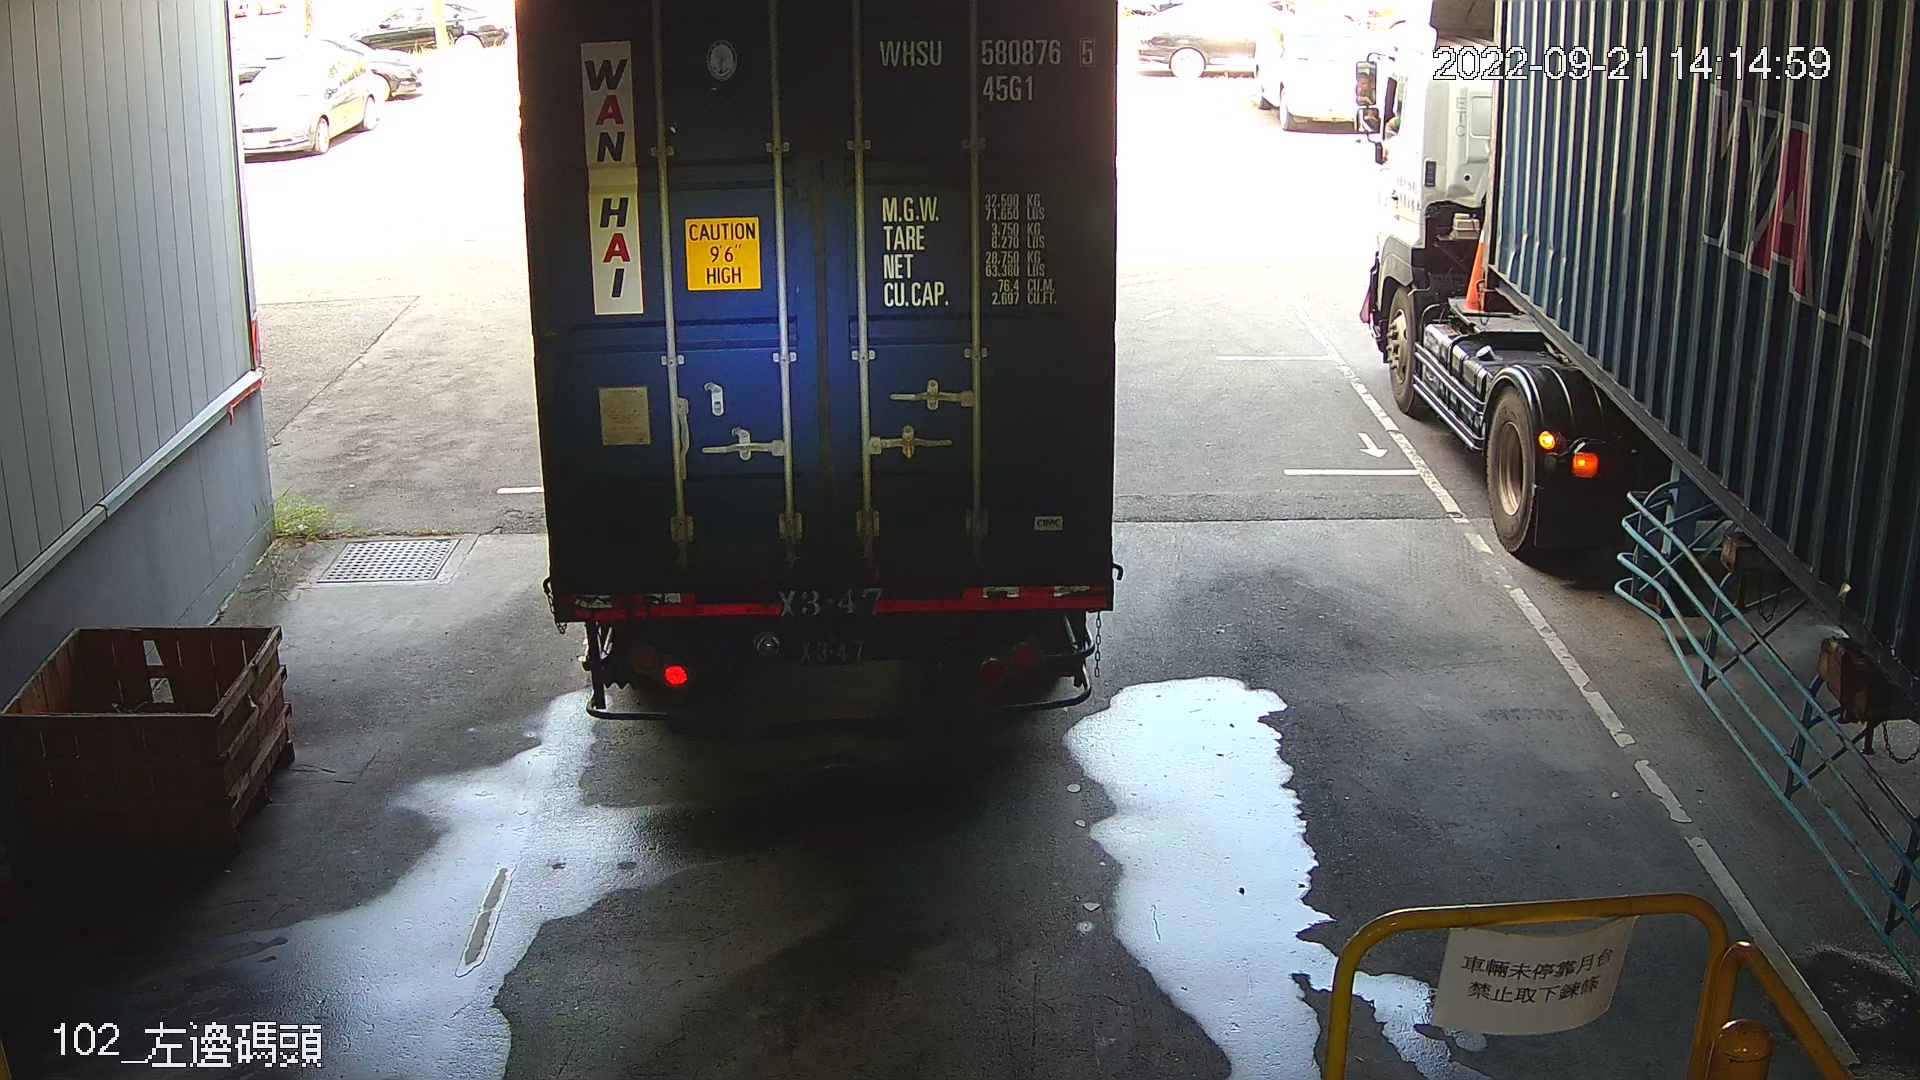container: (870, 26, 1101, 109)
